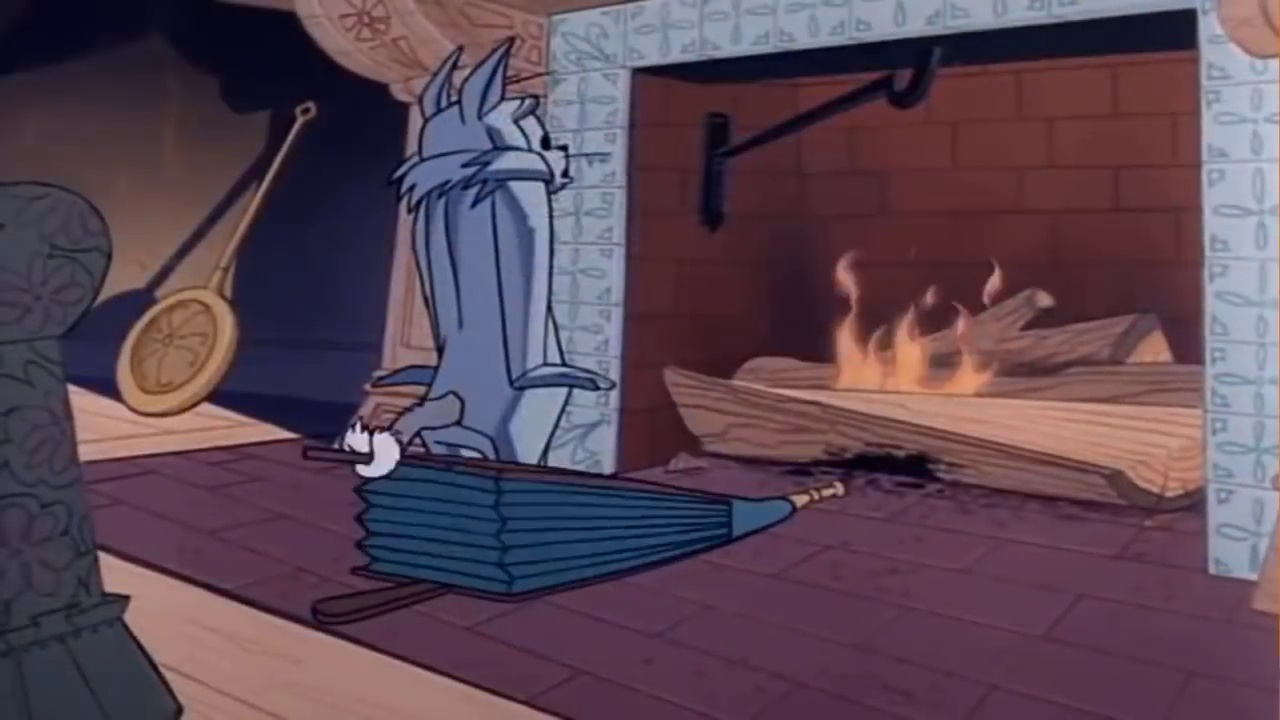face: (499, 95, 577, 202)
